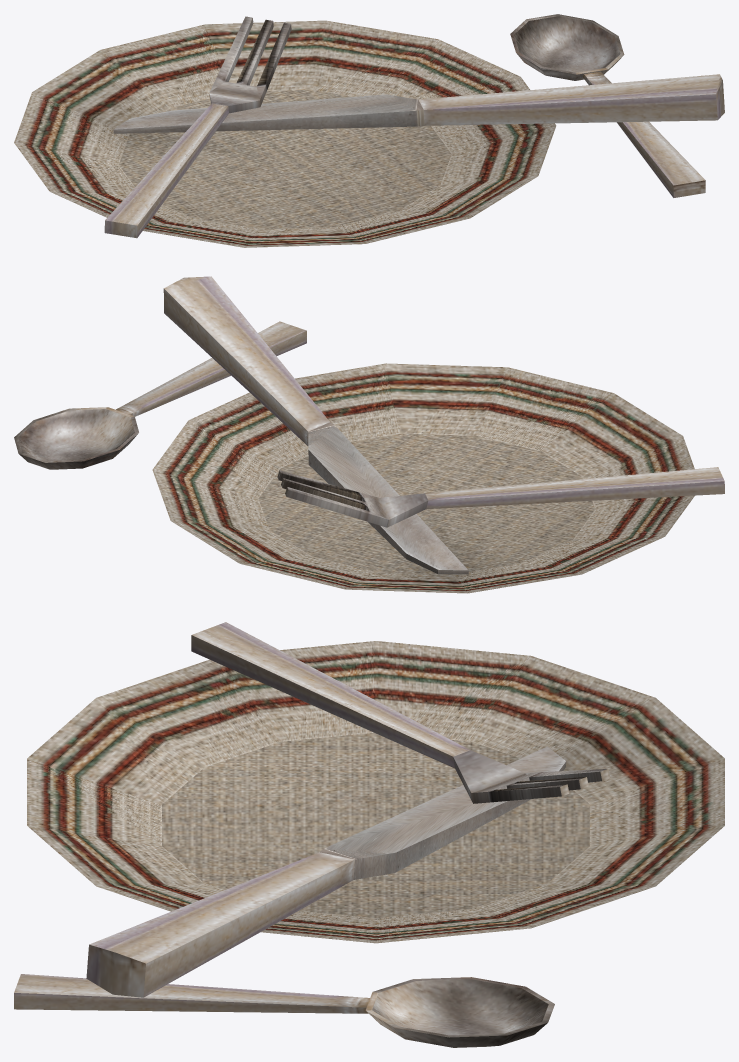
The model's file is mm9_deco_plateset2p1.glb.
3 views of the same model, one above another, from view 1: azimuth 30°, elevation 25°; view 2: azimuth 150°, elevation 25°; view 3: azimuth 270°, elevation 25° (orthographic). The views are drawn at different scales.
Visible parts, largest first — view 1: Plateset2p1; view 2: Plateset2p1; view 3: Plateset2p1.
Boxes of the visible parts, <box> form: Plateset2p1: <box>14,14,724,247</box>; Plateset2p1: <box>14,276,724,593</box>; Plateset2p1: <box>14,622,724,1047</box>.
Size of the model in its own units: 0.6323 by 0.072 by 0.4942.
Materials: 2 (2 with a texture image).
